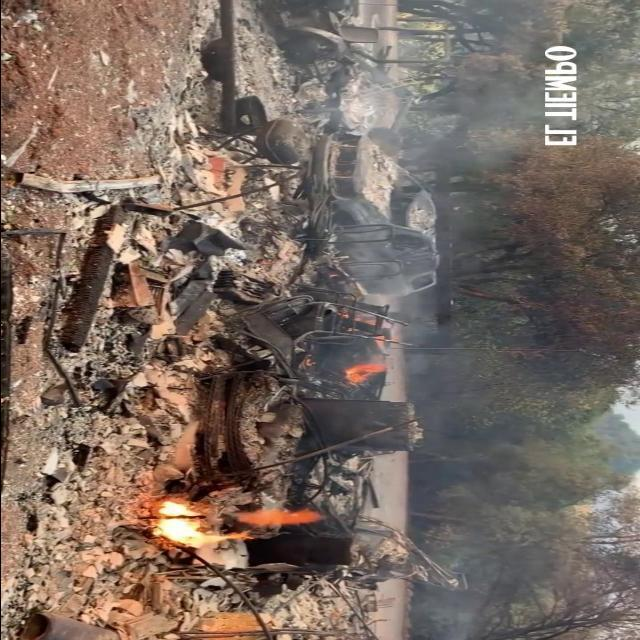Fire: (157, 502, 235, 552), (241, 506, 317, 526), (344, 363, 388, 385)
